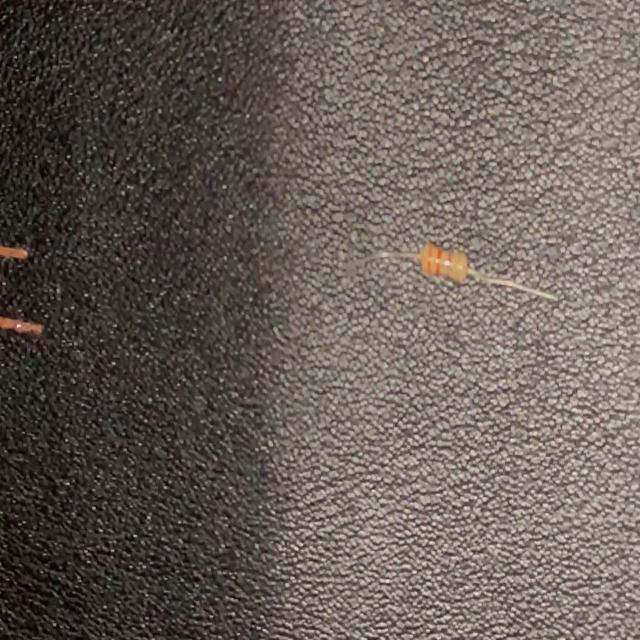faded: (447, 246, 467, 286)
resistor: (312, 239, 562, 308)
